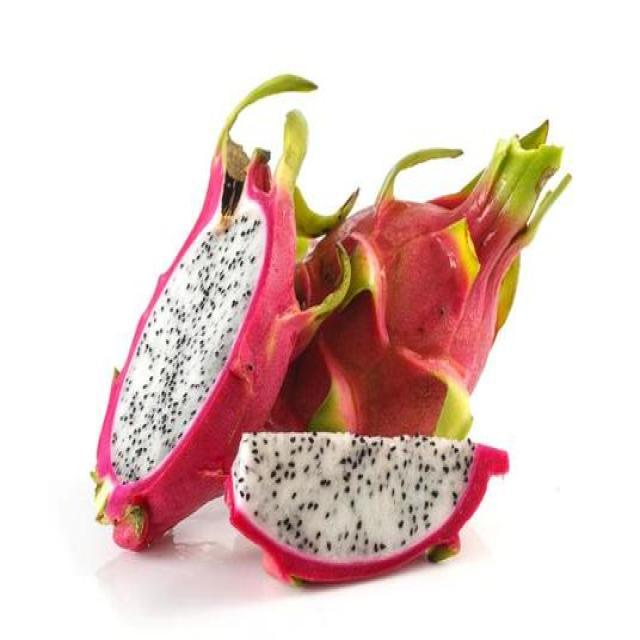dragon-fruit: (93, 187, 299, 554), (265, 198, 502, 437), (223, 429, 490, 585)
